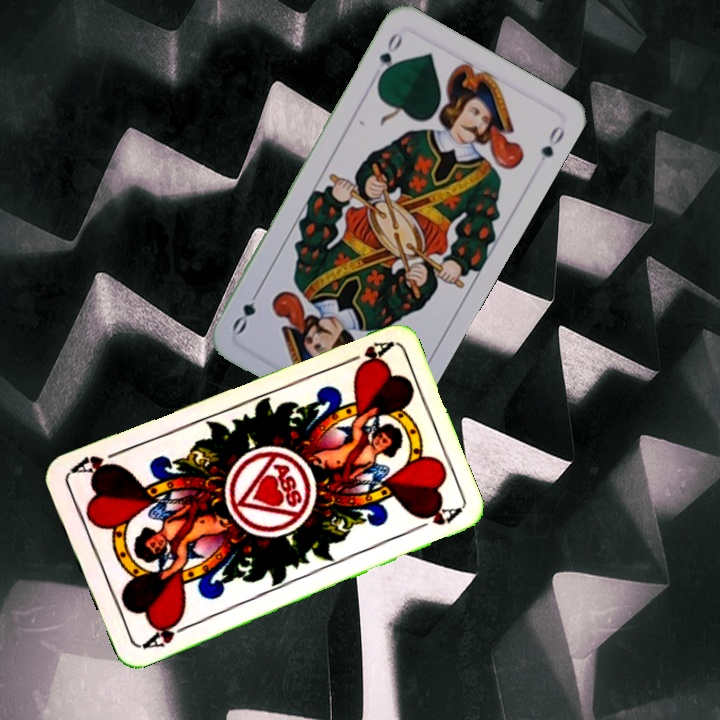GO: (374, 29, 406, 83)
HA: (136, 614, 193, 652), (336, 337, 394, 374)
